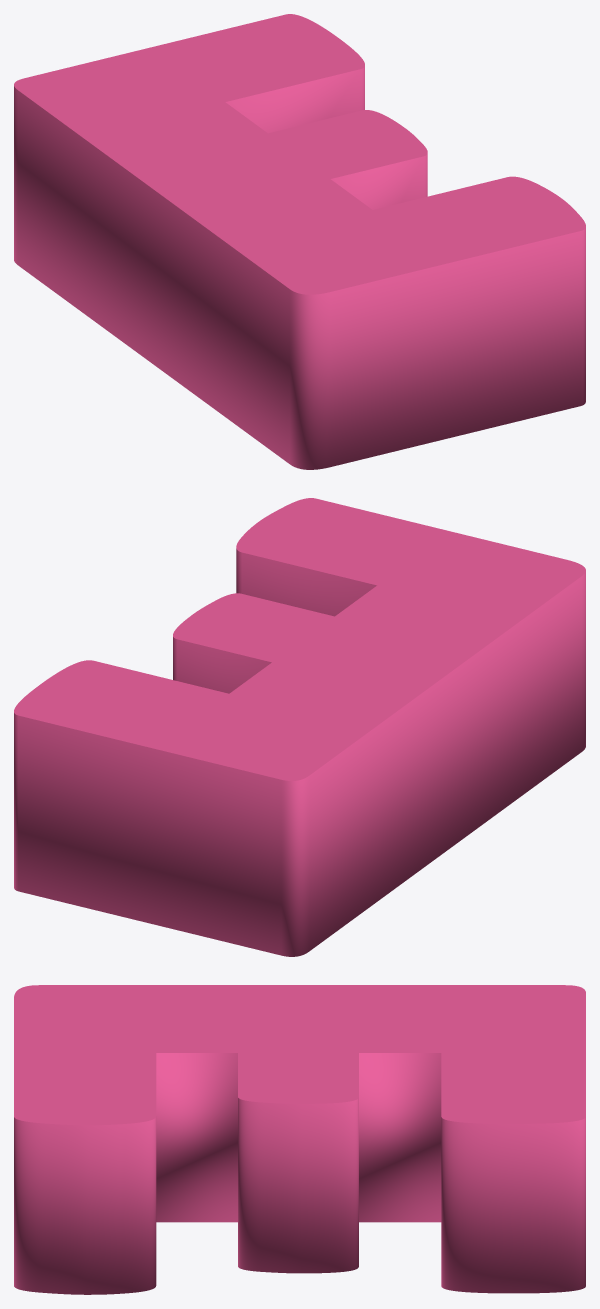
The picture shows the model from 3 angles, top to bottom: view 1: azimuth 30°, elevation 25°; view 2: azimuth 150°, elevation 25°; view 3: azimuth 270°, elevation 25°; orthographic projection. The views are drawn at different scales.
Visible parts, largest first — view 1: e; view 2: e; view 3: e.
Boxes of the visible parts, bbox=[...] form: e: bbox=[14, 14, 585, 469]; e: bbox=[14, 498, 585, 956]; e: bbox=[14, 985, 585, 1294].
Bounding box in the file's own units: 0.2095 × 0.1181 × 0.3612.
